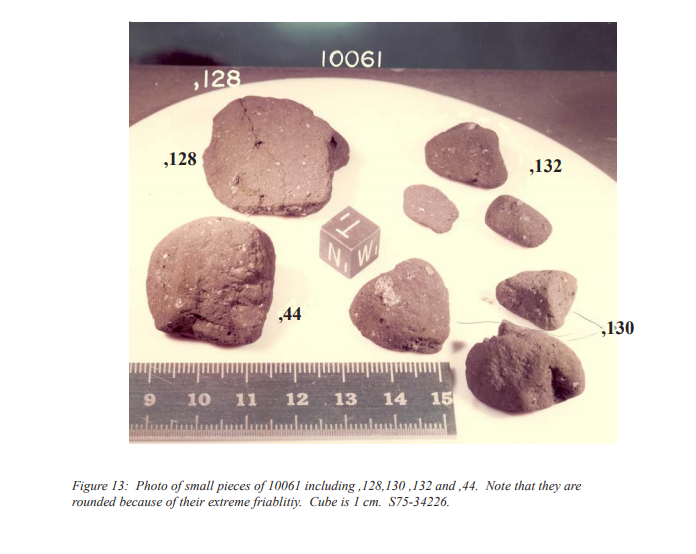Breccia: (149, 213, 273, 347), (194, 104, 349, 206), (478, 334, 602, 403), (493, 265, 601, 328), (416, 122, 508, 193), (498, 209, 549, 252)
